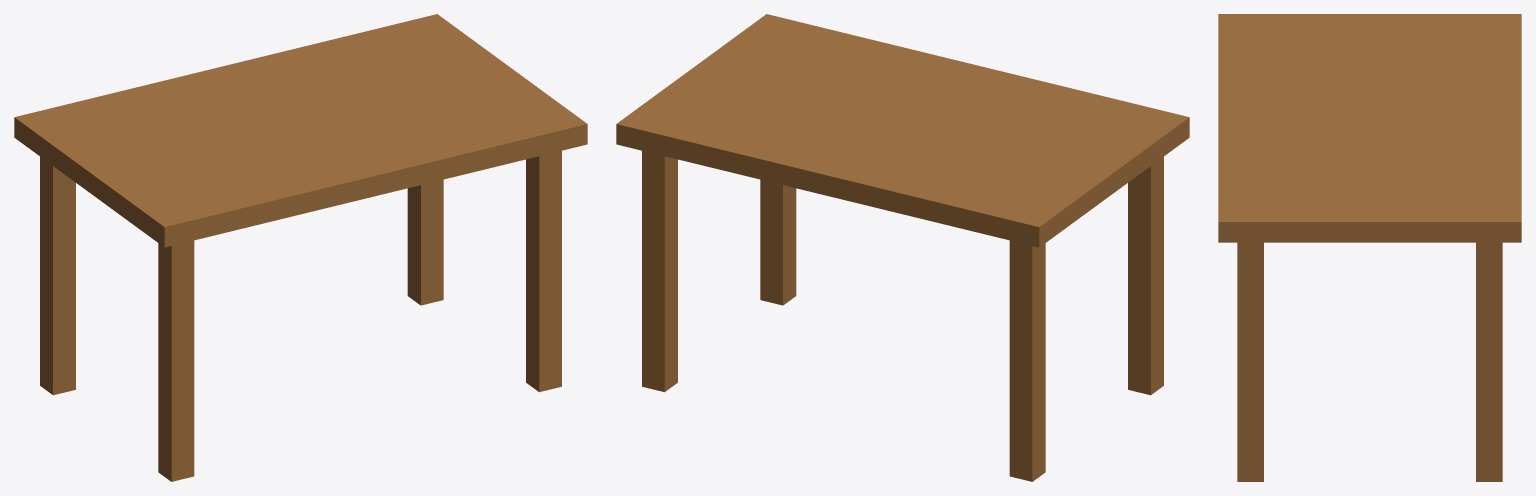
Rendered from table.glb.
The picture shows the model from 3 angles, left to right: view 1: azimuth 30°, elevation 25°; view 2: azimuth 150°, elevation 25°; view 3: azimuth 270°, elevation 25°; orthographic projection.
Visible parts, largest first — view 1: Top, Leg_0, Leg_1, Leg_2, Leg_3; view 2: Top, Leg_2, Leg_3, Leg_0, Leg_1; view 3: Top, Leg_1, Leg_3.
Part boxes in pixels (left/top/right/bottom): Top: left=14, top=14, right=587, bottom=247; Leg_0: left=158, top=240, right=194, bottom=481; Leg_1: left=526, top=150, right=561, bottom=392; Leg_2: left=40, top=156, right=75, bottom=395; Leg_3: left=407, top=179, right=443, bottom=305; Top: left=616, top=14, right=1189, bottom=247; Leg_2: left=1009, top=240, right=1045, bottom=481; Leg_3: left=642, top=150, right=677, bottom=392; Leg_0: left=1128, top=156, right=1163, bottom=395; Leg_1: left=760, top=179, right=796, bottom=305; Top: left=1218, top=14, right=1521, bottom=242; Leg_1: left=1237, top=242, right=1263, bottom=481; Leg_3: left=1476, top=242, right=1502, bottom=481.
Size of the model in its own units: 1.3 by 0.78 by 0.8.
